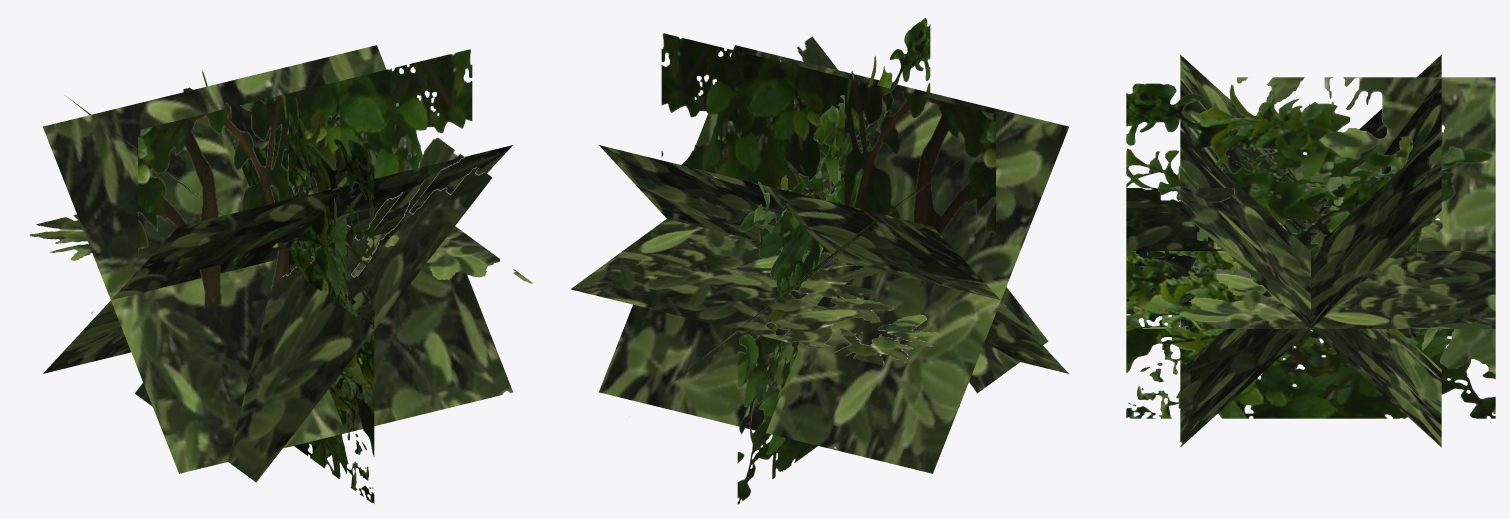
The model's file is Bush1.fbx.
The picture shows the model from 3 angles, left to right: view 1: azimuth 30°, elevation 25°; view 2: azimuth 150°, elevation 25°; view 3: azimuth 270°, elevation 25°; orthographic projection. The views are drawn at different scales.
Parts seen in each view (by area): view 1: pPlane2; view 2: pPlane2; view 3: pPlane2.
Part boxes in pixels (left/top/right/bottom): pPlane2: left=29, top=45, right=532, bottom=503; pPlane2: left=571, top=18, right=1068, bottom=504; pPlane2: left=1126, top=55, right=1495, bottom=446.
Size of the model in its own units: 14.25 by 13.63 by 13.59.
